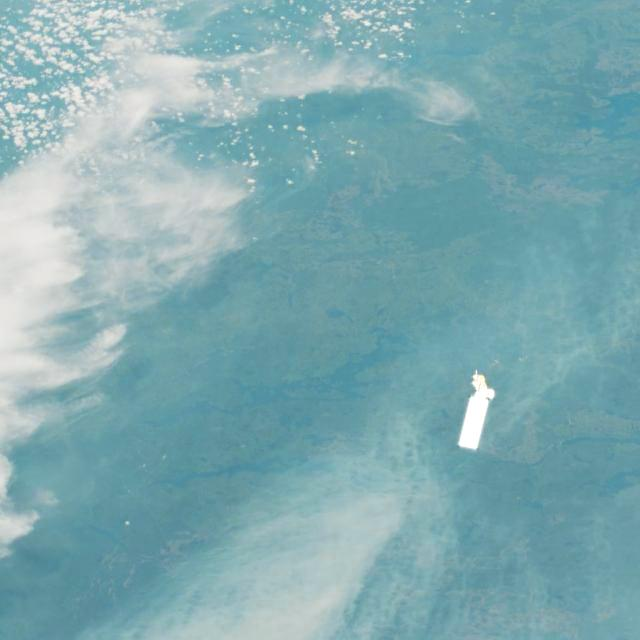medium_debris: (448, 366, 512, 457)
